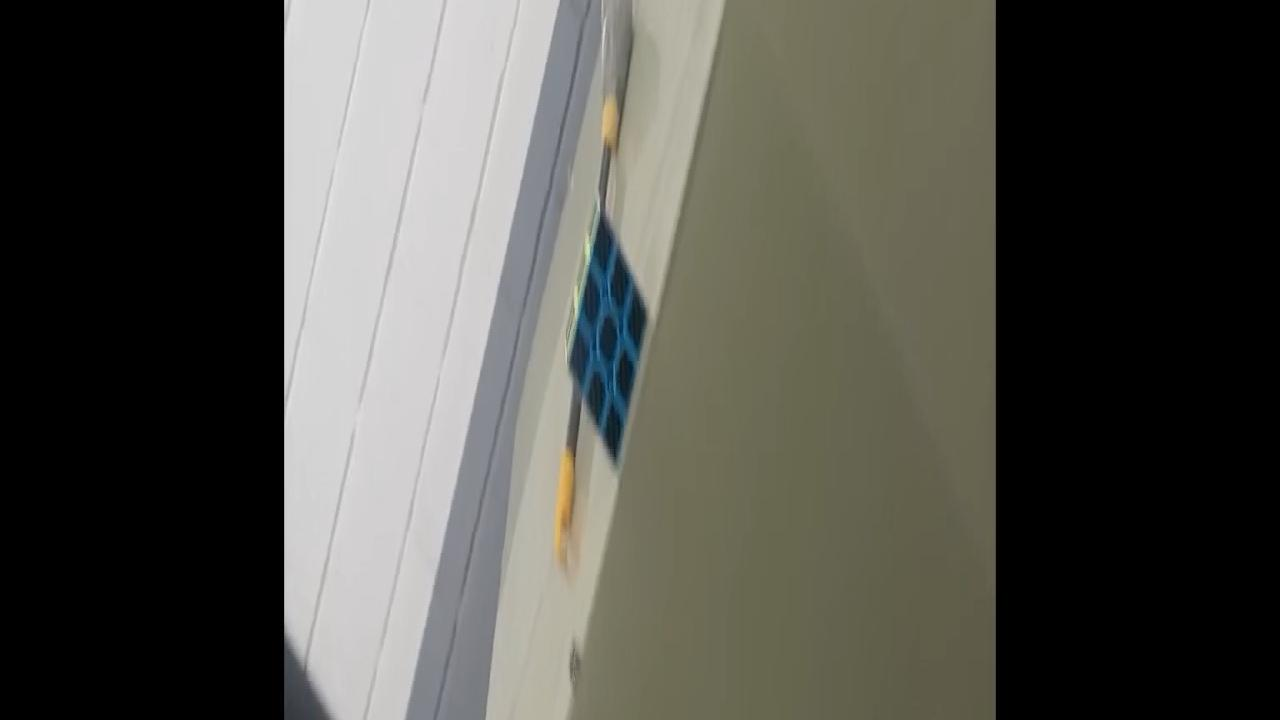Cube: (563, 200, 649, 472)
